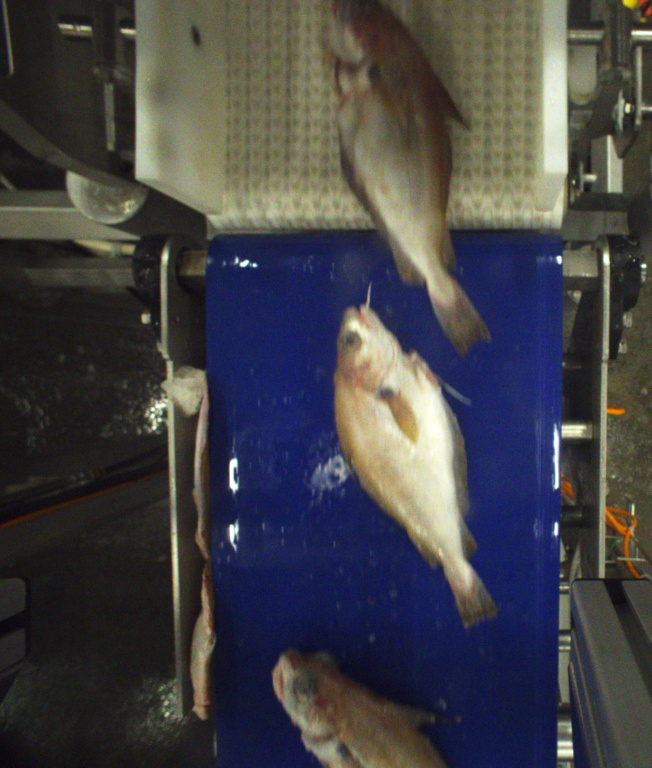BIB: (329, 303, 499, 625)
